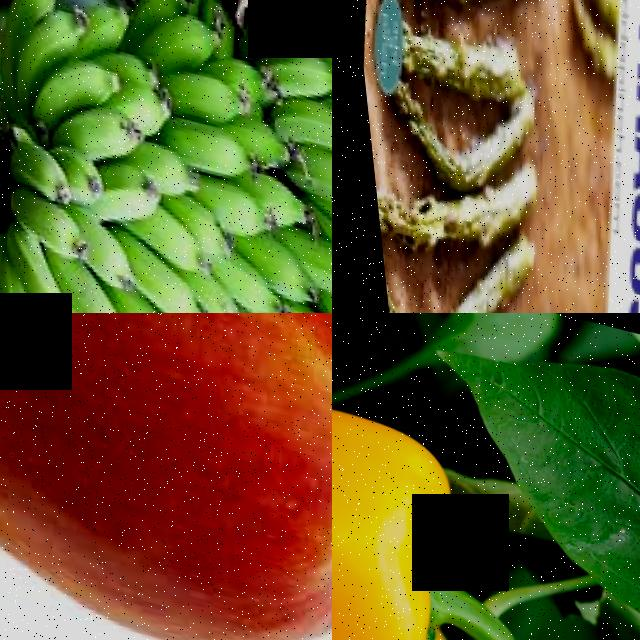apple: (0, 313, 332, 640)
asparagus: (377, 87, 527, 186), (366, 174, 510, 262), (395, 15, 514, 101), (389, 0, 536, 25)
banana: (0, 0, 332, 313)
bell pepper: (332, 350, 496, 640)
